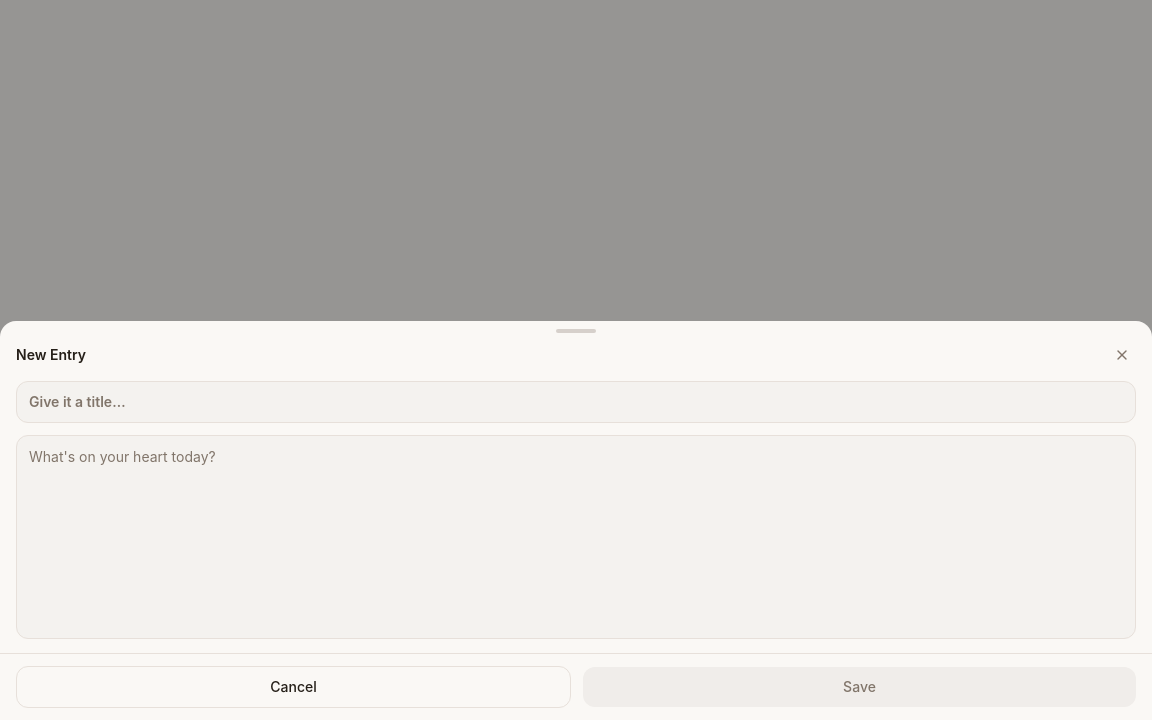
Test case: DiaryComposer › Save button is enabled when both title and text are filled
In the field with placeholder "Give it a title…": [576, 402] box [16,381,1136,423], type "Some title"
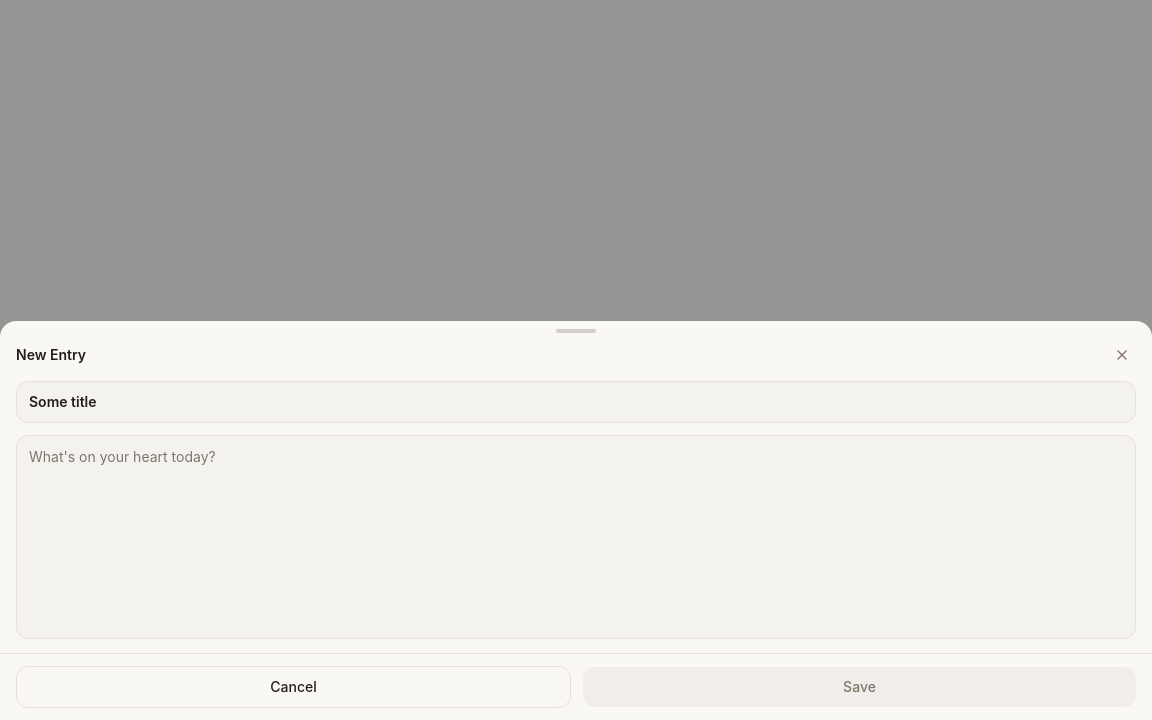
In the text box with placeholder "What's on your heart today?": [576, 537] box [16,435,1136,639], type "Some text"
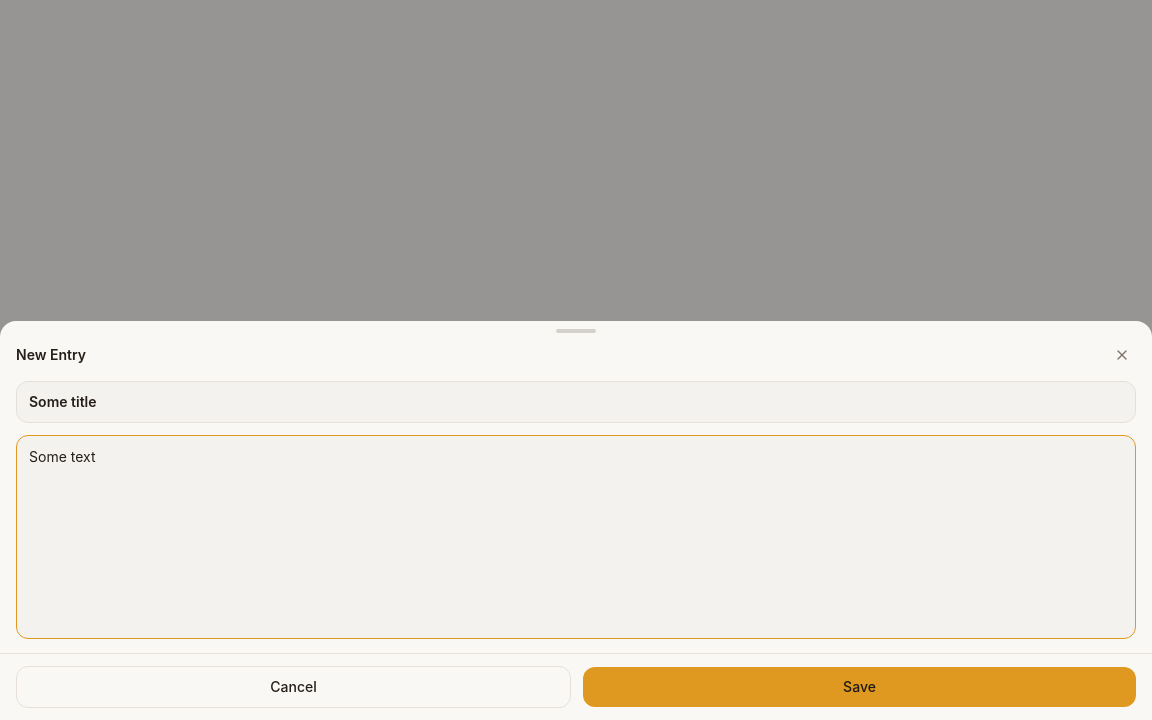
Now the button "Save" is enabled, box [583,667,1136,707]
